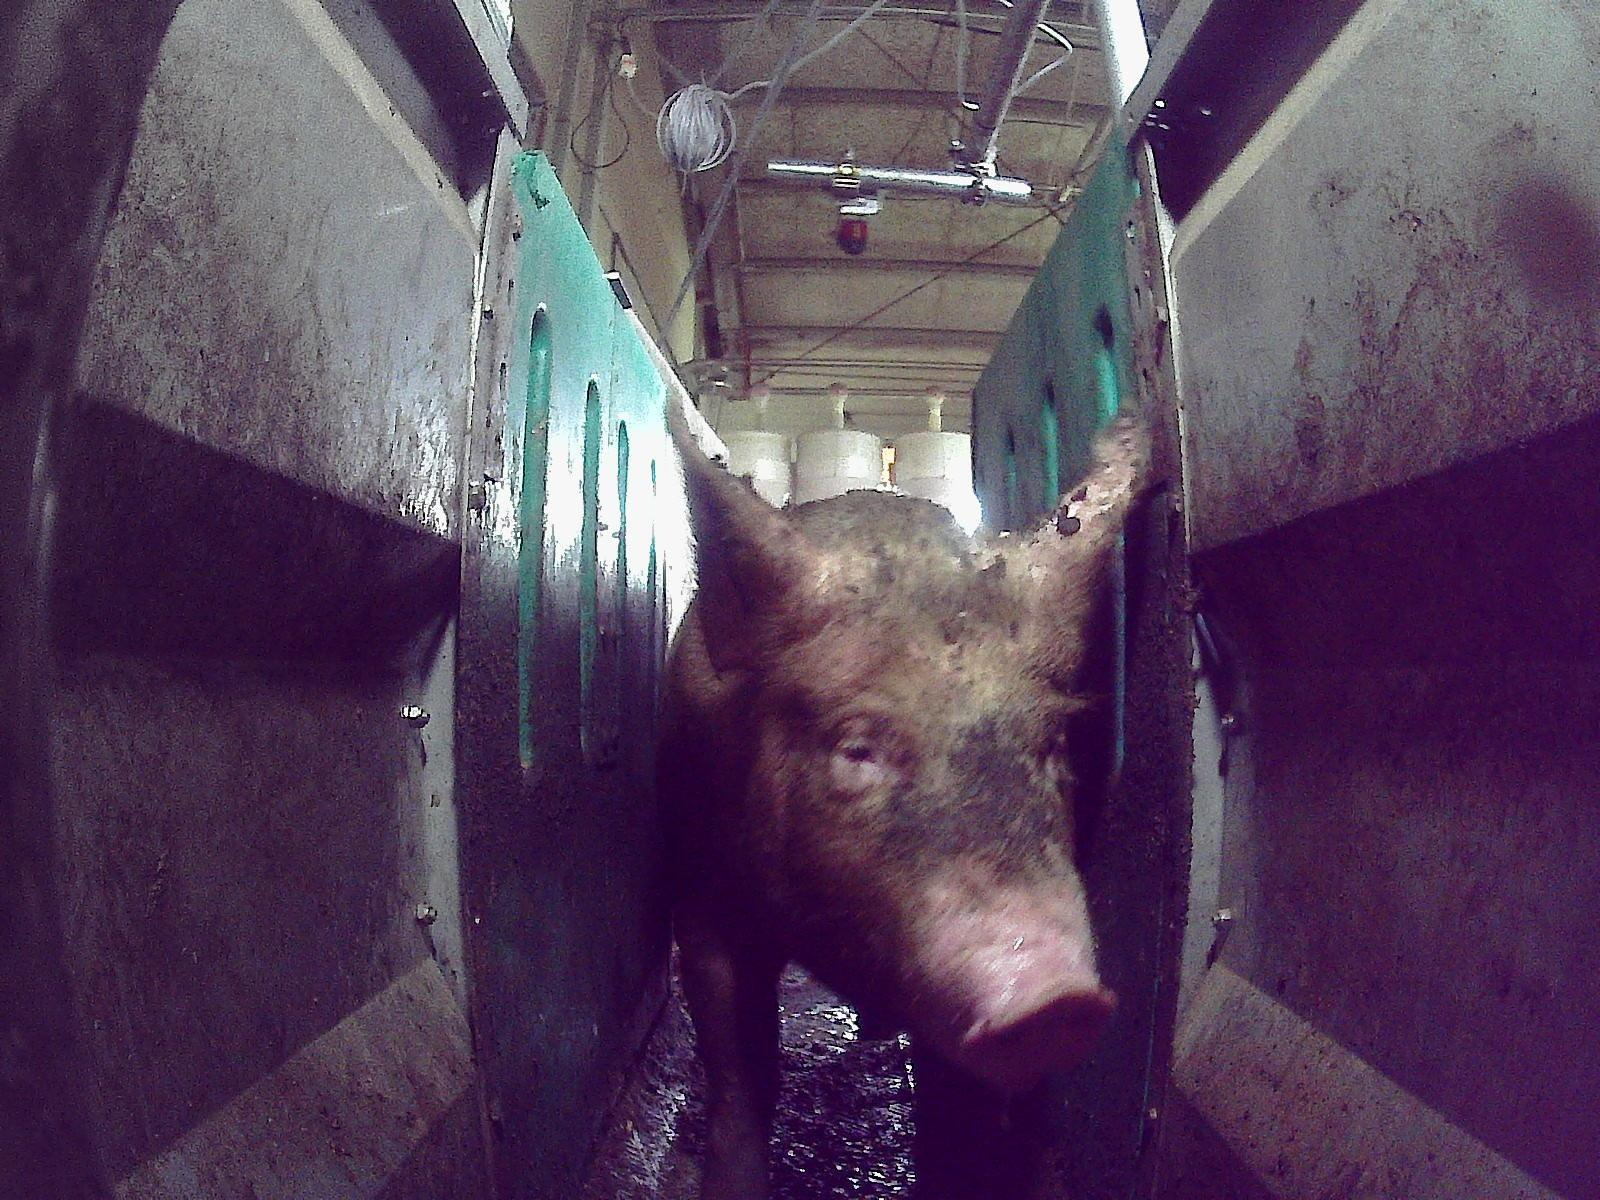Face: (748, 564, 1115, 1091)
